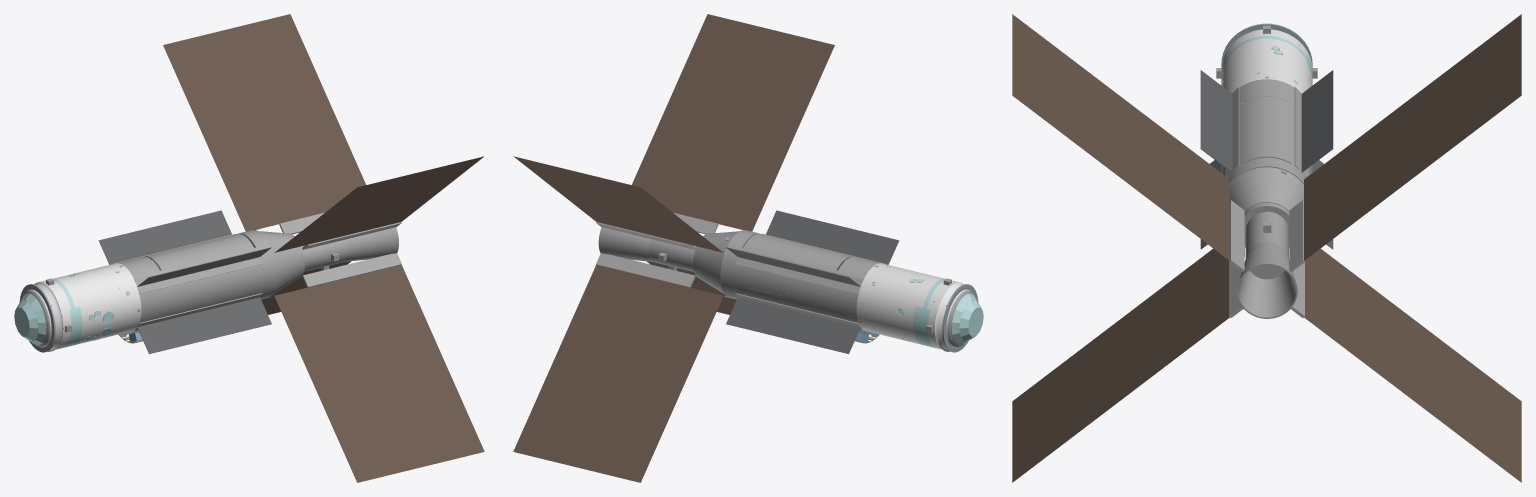
File: wayfarer_bay_fullship_88ce19fc_torch_stowed.glb
The picture shows the model from 3 angles, left to right: view 1: azimuth 30°, elevation 25°; view 2: azimuth 150°, elevation 25°; view 3: azimuth 270°, elevation 25°; orthographic projection. The views are drawn at different scales.
Parts seen in each view (by area): view 1: dry:armor, dry:skin_midship, dry:hotfin_220:pleat_13, dry:hotfin_40:pleat_04, dry:hotfin_220:pleat_09, dry:hotfin_40:pleat_02, dry:hotfin_220:pleat_04, dry:hotfin_220:pleat_07, dry:hotfin_220:pleat_11, dry:hotfin_40:pleat_03, dry:hotfin_40:pleat_05, dry:hotfin_40:pleat_08 (+47 smaller); view 2: dry:armor, dry:skin_midship, dry:hotfin_320:pleat_13, dry:hotfin_140:pleat_04, dry:hotfin_320:pleat_09, dry:hotfin_140:pleat_02, dry:hotfin_320:pleat_04, dry:hotfin_320:pleat_07, dry:hotfin_320:pleat_11, dry:hotfin_140:pleat_03, dry:hotfin_140:pleat_05, dry:hotfin_140:pleat_08 (+47 smaller); view 3: dry:armor, dry:nozzle, dry:thrust_cone, dry:reactor, dry:door_port, dry:door_starboard, dry:hotfin_220:pleat_03, dry:hotfin_320:pleat_03, dry:hotfin_40:pleat_05, dry:hotfin_40:pleat_07, dry:hotfin_140:pleat_05, dry:hotfin_140:pleat_07 (+63 smaller).
Part boxes in pixels (<box>): dry:armor: <box>23,263,141,350</box>; dry:skin_midship: <box>160,247,263,316</box>; dry:hotfin_220:pleat_13: <box>351,438,484,482</box>; dry:hotfin_40:pleat_04: <box>216,134,349,178</box>; dry:hotfin_220:pleat_09: <box>327,385,460,429</box>; dry:hotfin_40:pleat_02: <box>228,161,361,205</box>; dry:hotfin_220:pleat_04: <box>298,318,431,362</box>; dry:hotfin_220:pleat_07: <box>316,358,448,402</box>; dry:hotfin_220:pleat_11: <box>339,412,472,455</box>; dry:hotfin_40:pleat_03: <box>222,147,355,191</box>; dry:hotfin_40:pleat_05: <box>210,121,343,165</box>; dry:hotfin_40:pleat_08: <box>193,81,325,125</box>; dry:armor: <box>856,263,974,350</box>; dry:skin_midship: <box>734,247,837,316</box>; dry:hotfin_320:pleat_13: <box>513,438,646,482</box>; dry:hotfin_140:pleat_04: <box>648,134,781,178</box>; dry:hotfin_320:pleat_09: <box>537,385,670,429</box>; dry:hotfin_140:pleat_02: <box>636,161,769,205</box>; dry:hotfin_320:pleat_04: <box>566,318,699,362</box>; dry:hotfin_320:pleat_07: <box>549,358,681,402</box>; dry:hotfin_320:pleat_11: <box>525,412,658,455</box>; dry:hotfin_140:pleat_03: <box>642,147,775,191</box>; dry:hotfin_140:pleat_05: <box>654,121,787,165</box>; dry:hotfin_140:pleat_08: <box>672,81,804,125</box>; dry:armor: <box>1221,29,1312,93</box>; dry:nozzle: <box>1237,242,1297,318</box>; dry:thrust_cone: <box>1230,167,1303,247</box>; dry:reactor: <box>1245,211,1288,279</box>; dry:door_port: <box>1242,97,1266,163</box>; dry:door_starboard: <box>1267,97,1291,163</box>; dry:hotfin_220:pleat_03: <box>1167,271,1183,364</box>; dry:hotfin_320:pleat_03: <box>1350,271,1366,364</box>; dry:hotfin_40:pleat_05: <box>1381,109,1397,201</box>; dry:hotfin_40:pleat_07: <box>1412,85,1428,177</box>; dry:hotfin_140:pleat_05: <box>1136,109,1152,201</box>; dry:hotfin_140:pleat_07: <box>1105,85,1121,177</box>.
Size of the model in its own units: 54.5 by 42.11 by 50.18.
